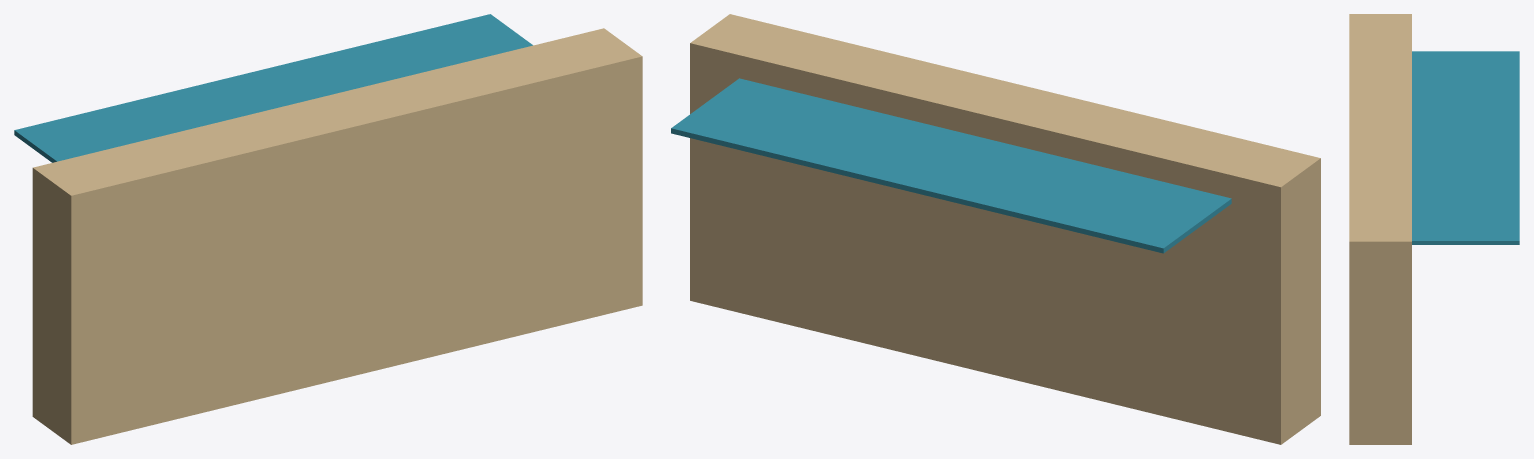
Rendered from hydroelectric-dam.glb.
3 renders of one model, left to right at view 1: azimuth 30°, elevation 25°; view 2: azimuth 150°, elevation 25°; view 3: azimuth 270°, elevation 25°, orthographic. The views are drawn at different scales.
Visible parts, largest first — view 1: hydroelectric-dam-static-dam-concrete, hydroelectric-dam-static-dam-water; view 2: hydroelectric-dam-static-dam-concrete, hydroelectric-dam-static-dam-water; view 3: hydroelectric-dam-static-dam-concrete, hydroelectric-dam-static-dam-water.
Part boxes in pixels (bbox=[...]): hydroelectric-dam-static-dam-concrete: bbox=[32, 28, 642, 444]; hydroelectric-dam-static-dam-water: bbox=[14, 14, 532, 162]; hydroelectric-dam-static-dam-concrete: bbox=[690, 14, 1320, 444]; hydroelectric-dam-static-dam-water: bbox=[671, 78, 1231, 253]; hydroelectric-dam-static-dam-concrete: bbox=[1349, 14, 1411, 444]; hydroelectric-dam-static-dam-water: bbox=[1412, 51, 1519, 244].
Bounding box in the file's own units: 12 × 5 × 3.8.
